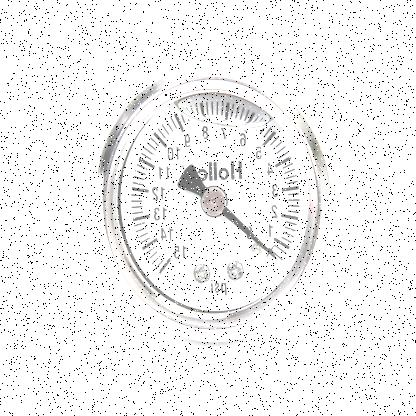needle: (221, 205, 277, 261)
